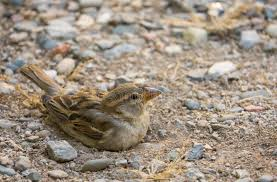hsparrow: (18, 63, 161, 150)
